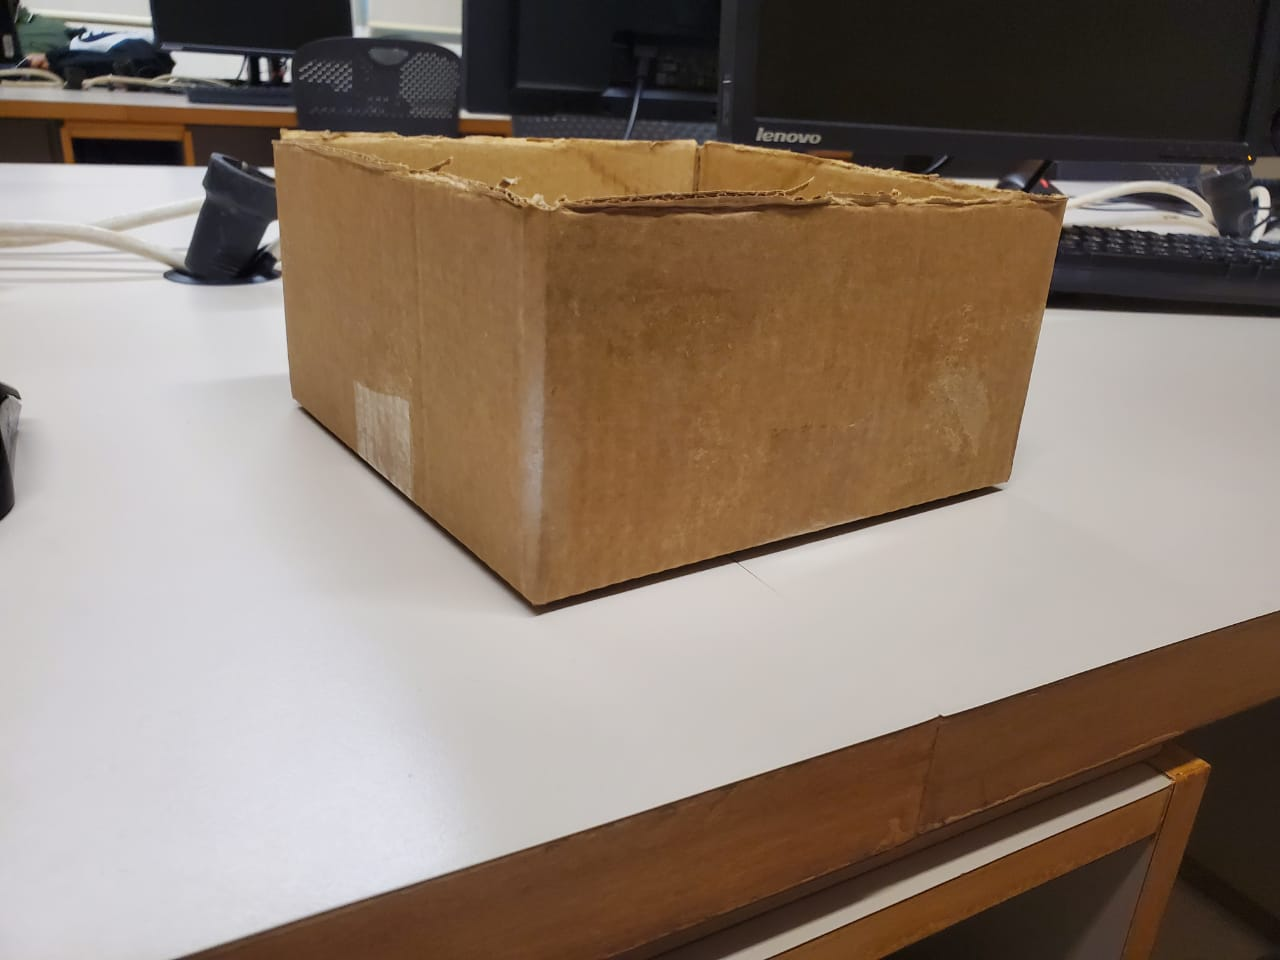CBox: (266, 115, 1072, 611)
